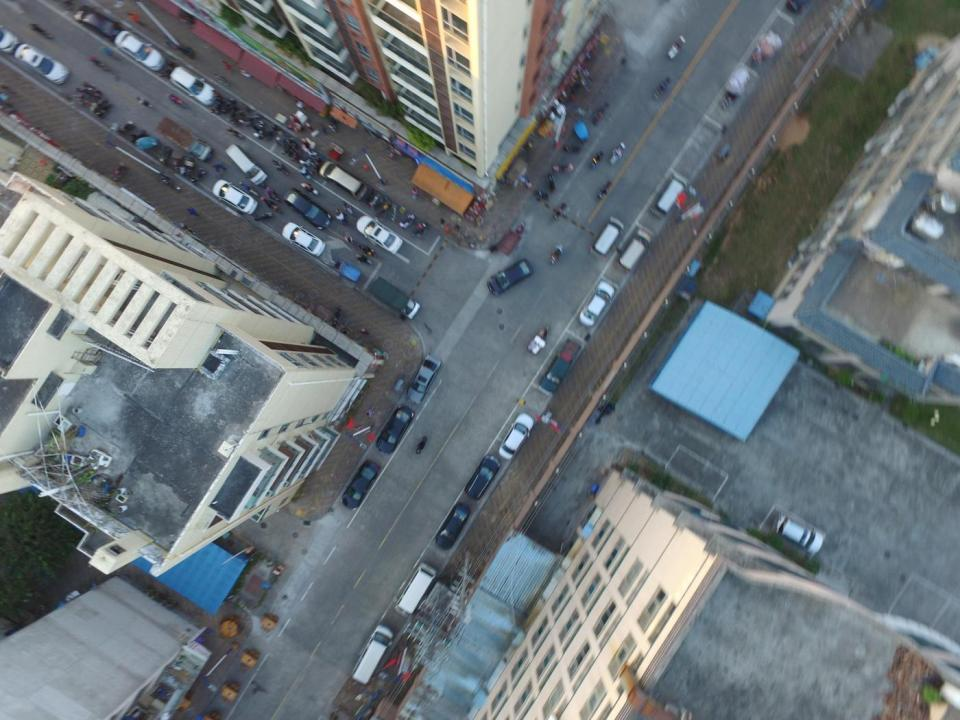car: (14, 43, 70, 85), (113, 30, 165, 71), (771, 514, 824, 554), (283, 187, 331, 231), (169, 66, 218, 107), (341, 460, 380, 511), (355, 216, 404, 256), (376, 405, 414, 456), (486, 257, 534, 297), (406, 353, 442, 405), (498, 412, 535, 461), (433, 502, 471, 549), (73, 4, 120, 42), (579, 280, 615, 328), (464, 454, 501, 500), (211, 179, 258, 215), (589, 215, 624, 262), (281, 222, 326, 257), (0, 23, 20, 54)
truck: (154, 116, 214, 162), (537, 338, 583, 394), (368, 276, 421, 320)
van: (350, 624, 394, 685), (394, 562, 436, 618), (318, 160, 368, 200), (224, 144, 268, 186), (651, 171, 687, 221), (615, 228, 652, 274)
